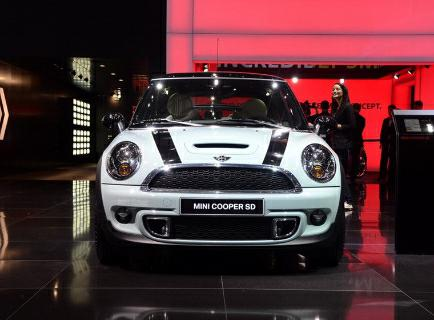MINI: (93, 86, 345, 274)
